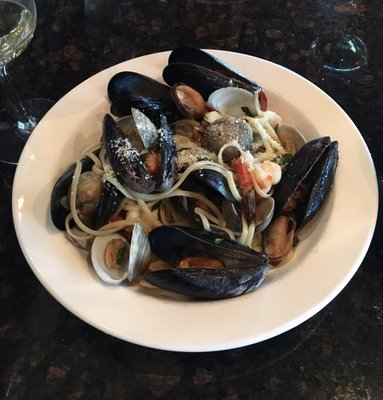sushi: (0, 46, 381, 386)
